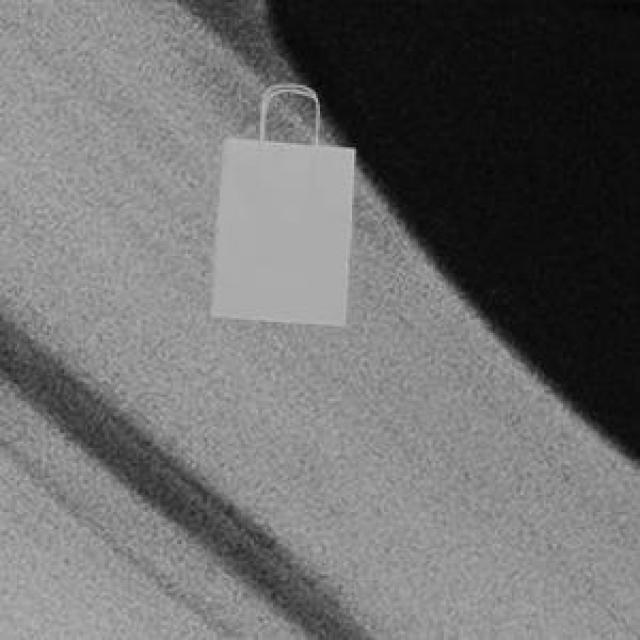paper: (205, 88, 350, 324)
